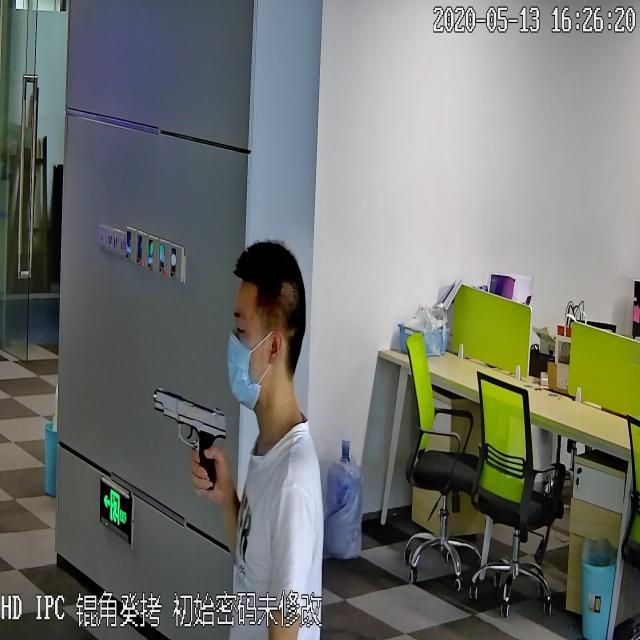gun: (151, 384, 229, 494)
